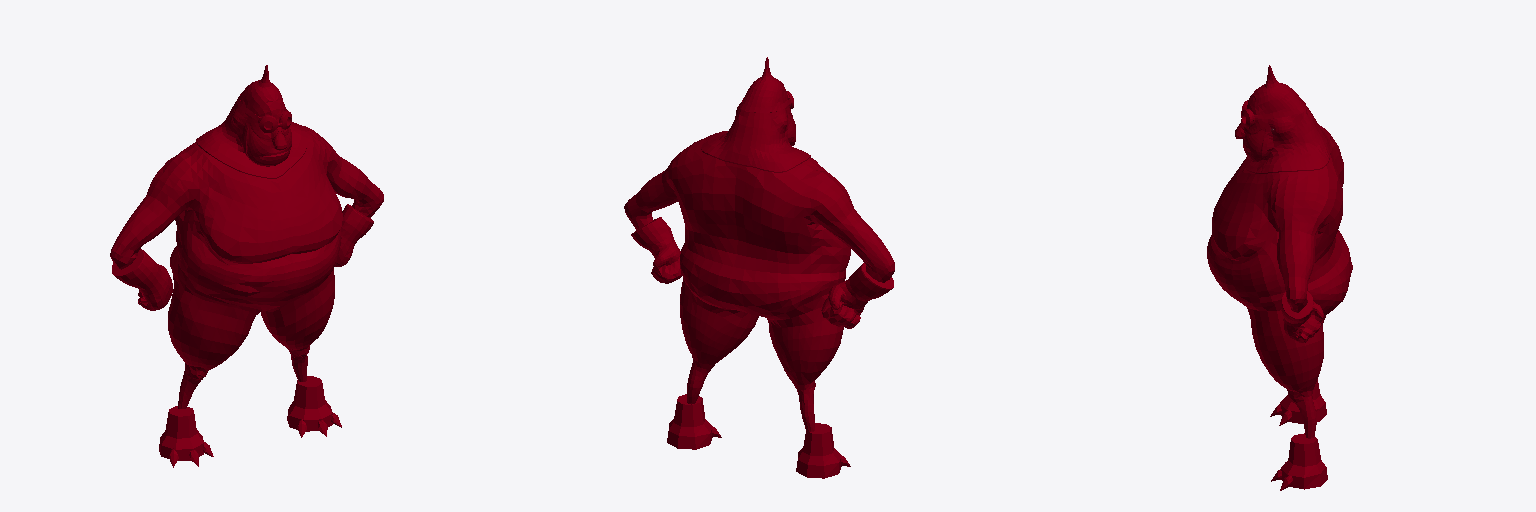
3 views of the same model, side by side, from view 1: azimuth 30°, elevation 25°; view 2: azimuth 150°, elevation 25°; view 3: azimuth 270°, elevation 25° (orthographic).
Visible parts, largest first — view 1: mesh_id108, mesh_id140, mesh_id189; view 2: mesh_id108, mesh_id140, mesh_id189; view 3: mesh_id108, mesh_id189, mesh_id140.
Part boxes in pixels (x1,y1,x2,y2): mesh_id108: (110, 65, 383, 408); mesh_id140: (159, 406, 203, 460); mesh_id189: (287, 376, 332, 431); mesh_id108: (624, 57, 894, 432); mesh_id140: (796, 423, 840, 478); mesh_id189: (667, 394, 711, 449); mesh_id108: (1207, 65, 1352, 438); mesh_id189: (1281, 433, 1327, 489); mesh_id140: (1280, 379, 1326, 423).
Bounding box in the file's own units: 0.3834 × 0.5225 × 0.1786.
Materials: 1 (1 with a texture image).